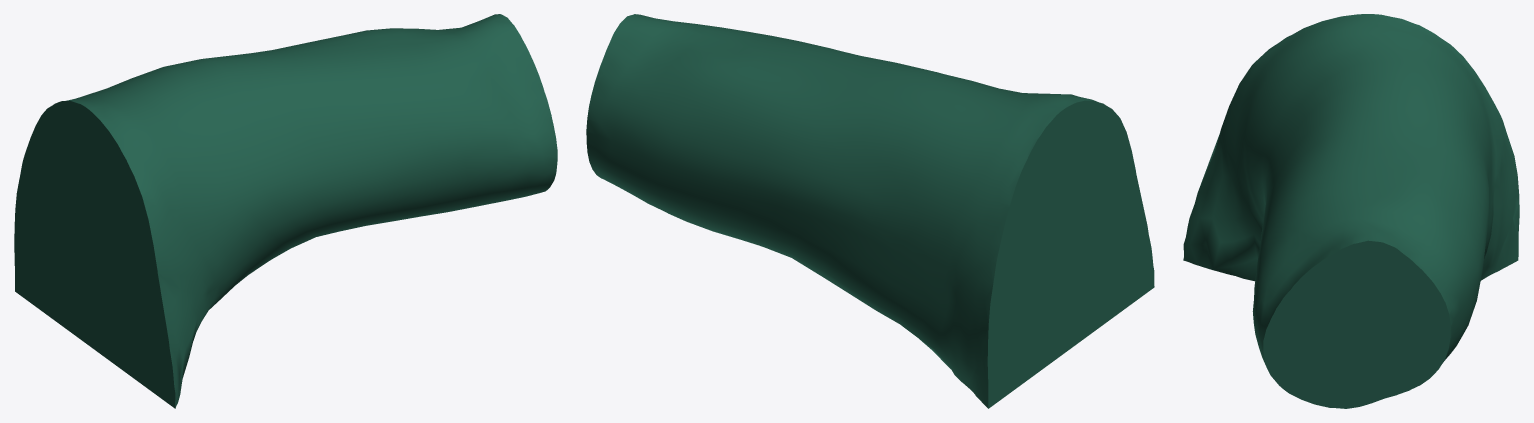
File: upperarm_l.fbx
3 views of the same model, side by side, from view 1: azimuth 30°, elevation 25°; view 2: azimuth 150°, elevation 25°; view 3: azimuth 270°, elevation 25° (orthographic). The views are drawn at different scales.
Visible parts, largest first — view 1: upperarm_l; view 2: upperarm_l; view 3: upperarm_l.
Boxes of the visible parts, x1,y1,x2,y2 form: upperarm_l: (14, 14, 557, 408); upperarm_l: (586, 14, 1154, 408); upperarm_l: (1183, 14, 1519, 408).
Bounding box in the file's own units: 0.2435 × 0.1616 × 0.1327.
